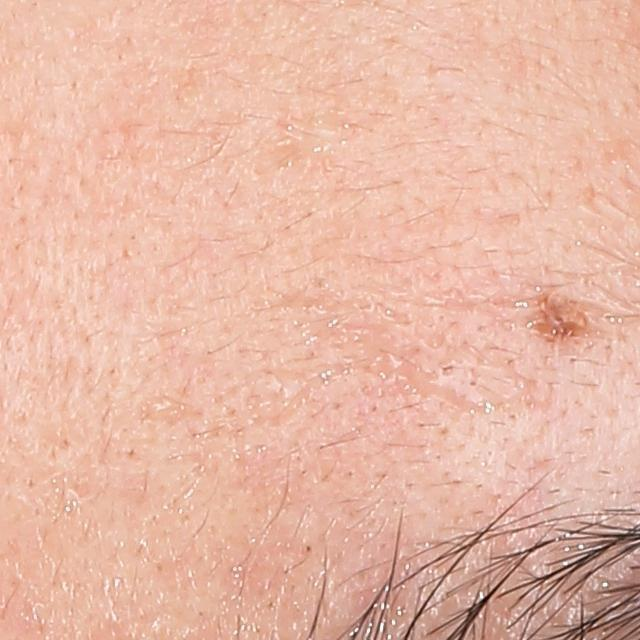nevus: (523, 292, 591, 348)
